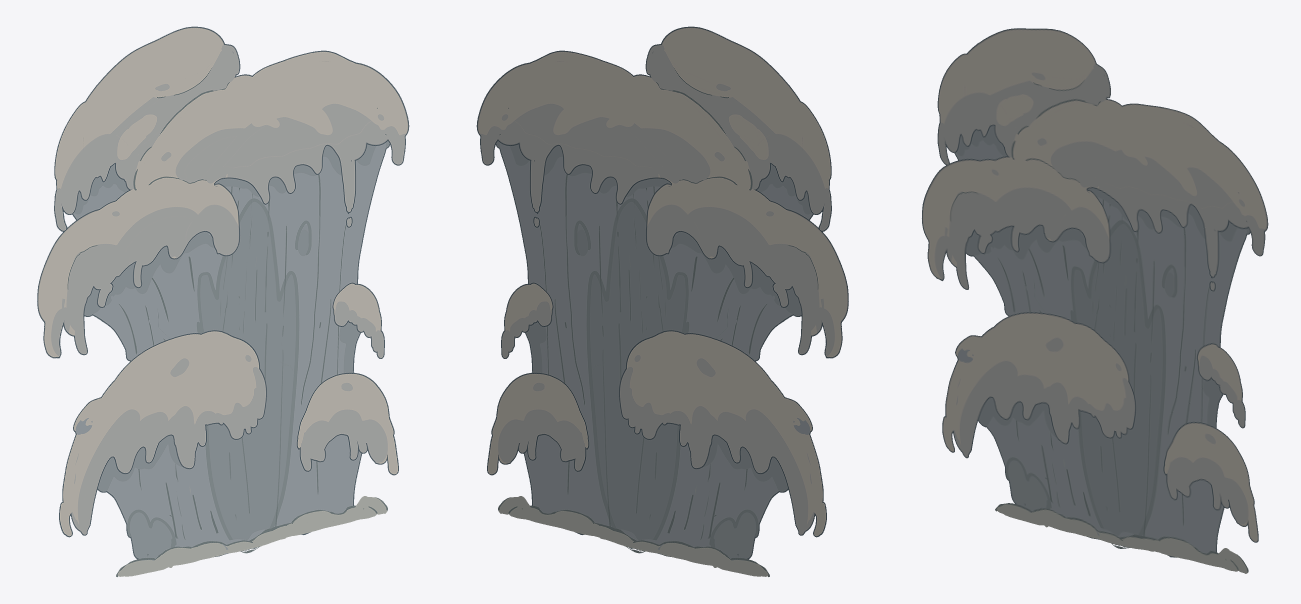
File: Mesh_Adventure_SnowMountain_Rock_01.fbx
3 renders of one model, left to right at view 1: azimuth 30°, elevation 25°; view 2: azimuth 150°, elevation 25°; view 3: azimuth 330°, elevation 25°, orthographic. The views are drawn at different scales.
Parts seen in each view (by area): view 1: Mesh_Adventure_SnowMountain_Rock_01; view 2: Mesh_Adventure_SnowMountain_Rock_01; view 3: Mesh_Adventure_SnowMountain_Rock_01.
Boxes of the visible parts, bbox=[...] form: Mesh_Adventure_SnowMountain_Rock_01: bbox=[37, 26, 409, 576]; Mesh_Adventure_SnowMountain_Rock_01: bbox=[476, 26, 848, 576]; Mesh_Adventure_SnowMountain_Rock_01: bbox=[922, 28, 1268, 573].
Bounding box in the file's own units: 80.18 × 100 × 0.
